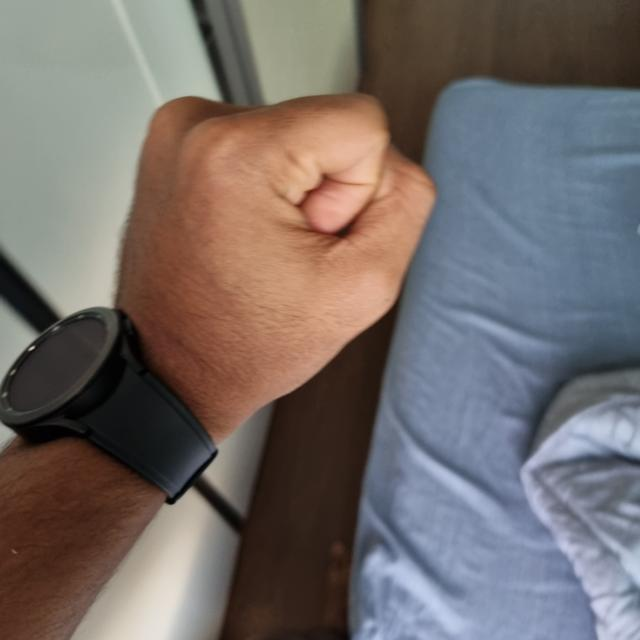Rock: (117, 92, 434, 420)
